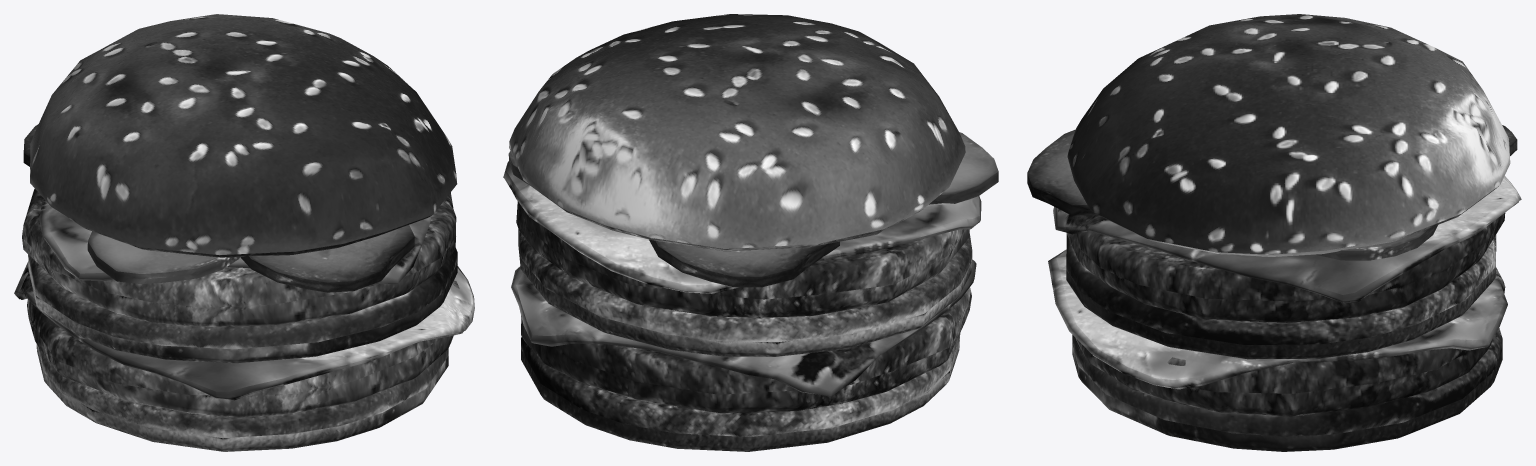
Rendered from burger.fbx.
3 views of the same model, side by side, from view 1: azimuth 30°, elevation 25°; view 2: azimuth 150°, elevation 25°; view 3: azimuth 270°, elevation 25° (orthographic). The views are drawn at different scales.
Visible parts, largest first — view 1: burger; view 2: burger; view 3: burger.
Boxes of the visible parts, x1,y1,x2,y2 form: burger: (14,14,474,451); burger: (503,14,998,451); burger: (1027,14,1521,451).
Size of the model in its own units: 12.34 by 8.93 by 12.97.
